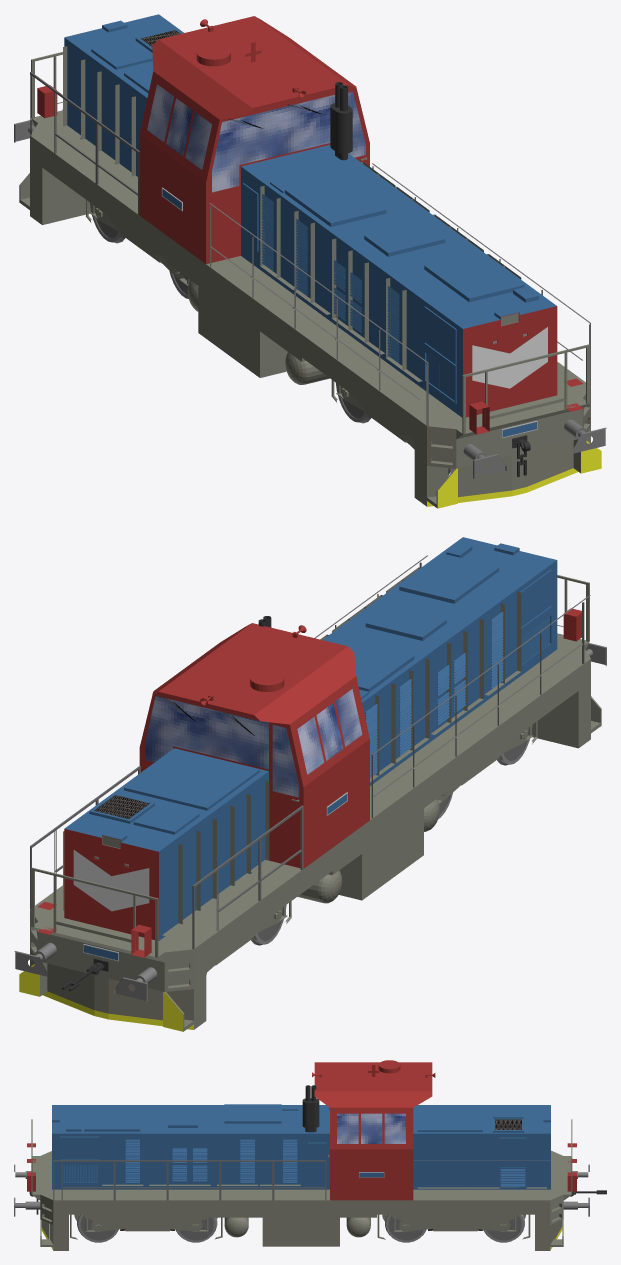
Rendered from Class-714-simple-car1.glb.
3 renders of one model, top to bottom at view 1: azimuth 30°, elevation 25°; view 2: azimuth 150°, elevation 25°; view 3: azimuth 270°, elevation 25°, orthographic. The views are drawn at different scales.
Parts seen in each view (by area): view 1: Object_1, Object_18, Object_14, Object_191, Object_5, Object_7, Object_6, Object_4, Object_26, Object_34, Object_22, Object_2 (+3 smaller); view 2: Object_1, Object_3, Object_18, Object_191, Object_16, Object_10, Object_9, Object_8, Object_11, Object_22, Object_26, Object_101 (+4 smaller); view 3: Object_1, Object_19, Object_90, Object_71, Object_40, Object_42, Object_48, Object_75, Object_64, Object_83, Object_94, Object_49 (+9 smaller).
Part boxes in pixels (x1=…): Object_1: x1=19, y1=14, x2=601, y2=508; Object_18: x1=209, y1=203, x2=428, y2=425; Object_14: x1=462, y1=344, x2=589, y2=434; Object_191: x1=30, y1=72, x2=139, y2=215; Object_5: x1=491, y1=327, x2=509, y2=401; Object_7: x1=529, y1=318, x2=547, y2=392; Object_6: x1=510, y1=322, x2=528, y2=397; Object_4: x1=472, y1=332, x2=490, y2=403; Object_26: x1=387, y1=286, x2=399, y2=363; Object_34: x1=262, y1=194, x2=273, y2=271; Object_22: x1=296, y1=219, x2=307, y2=295; Object_2: x1=348, y1=90, x2=367, y2=164; Object_1: x1=19, y1=537, x2=601, y2=1031; Object_3: x1=271, y1=723, x2=300, y2=865; Object_18: x1=371, y1=595, x2=590, y2=817; Object_191: x1=192, y1=805, x2=303, y2=949; Object_16: x1=31, y1=867, x2=158, y2=957; Object_10: x1=111, y1=850, x2=130, y2=924; Object_9: x1=73, y1=841, x2=92, y2=915; Object_8: x1=92, y1=845, x2=111, y2=919; Object_11: x1=130, y1=854, x2=149, y2=926; Object_22: x1=399, y1=679, x2=411, y2=756; Object_26: x1=491, y1=612, x2=503, y2=688; Object_101: x1=297, y1=870, x2=342, y2=903; Object_1: x1=32, y1=1060, x2=571, y2=1250; Object_19: x1=53, y1=1160, x2=326, y2=1200; Object_90: x1=84, y1=1214, x2=209, y2=1228; Object_71: x1=392, y1=1214, x2=517, y2=1228; Object_40: x1=240, y1=1139, x2=254, y2=1182; Object_42: x1=283, y1=1139, x2=297, y2=1182; Object_48: x1=125, y1=1139, x2=139, y2=1182; Object_75: x1=385, y1=1214, x2=426, y2=1242; Object_64: x1=483, y1=1214, x2=524, y2=1242; Object_83: x1=175, y1=1215, x2=217, y2=1242; Object_94: x1=77, y1=1214, x2=118, y2=1242; Object_49: x1=63, y1=1165, x2=97, y2=1182.
Size of the model in its own units: 2.96 by 4.51 by 14.64.
25 materials, 5 textured.
